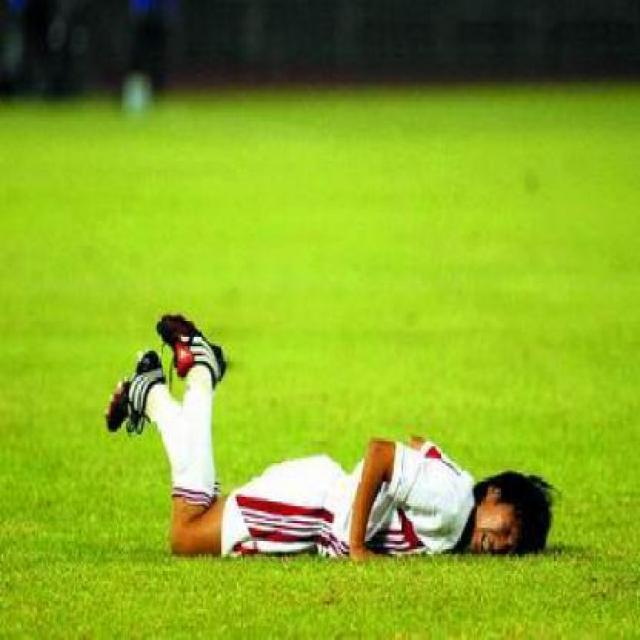fall: (102, 288, 550, 564)
